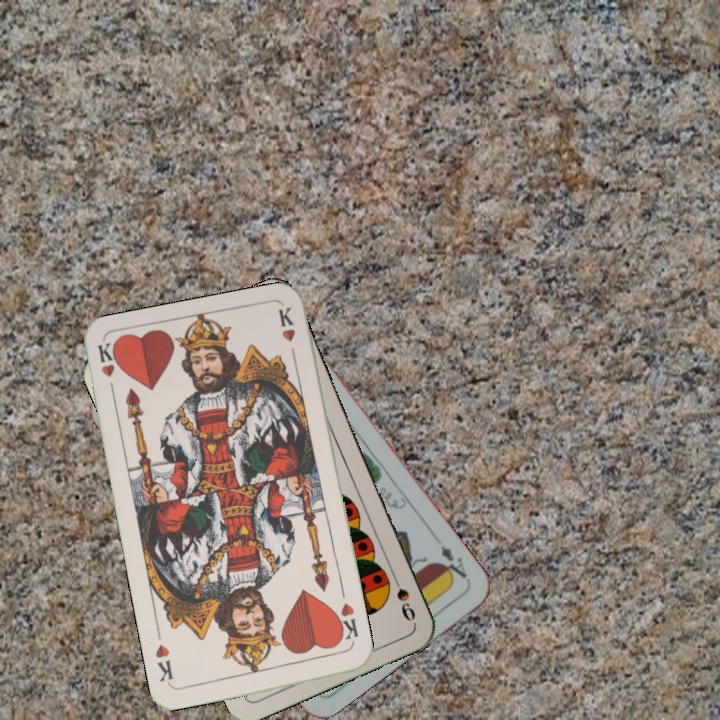EA: (436, 541, 470, 585)
HK: (93, 339, 122, 400), (331, 599, 361, 649)
S9: (387, 568, 418, 624)
